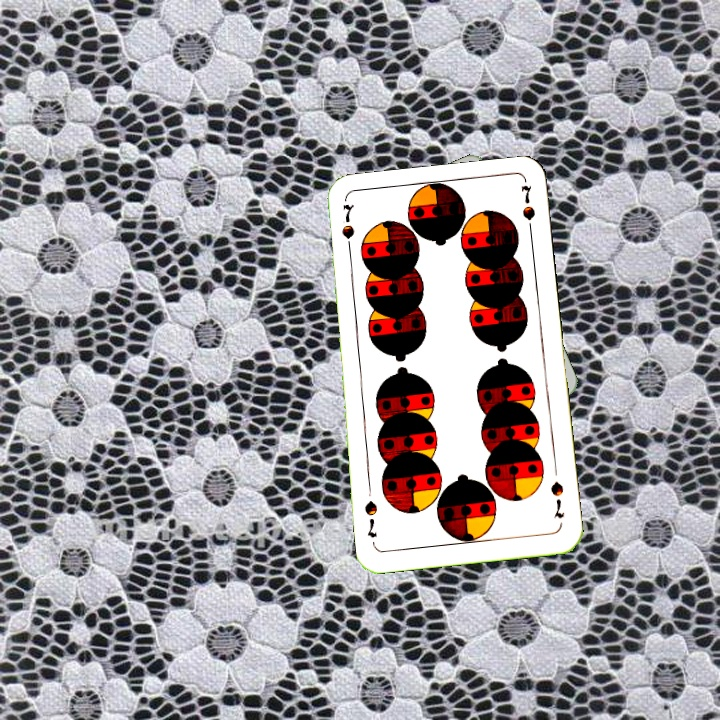S7: (338, 200, 356, 259), (547, 477, 567, 521)
